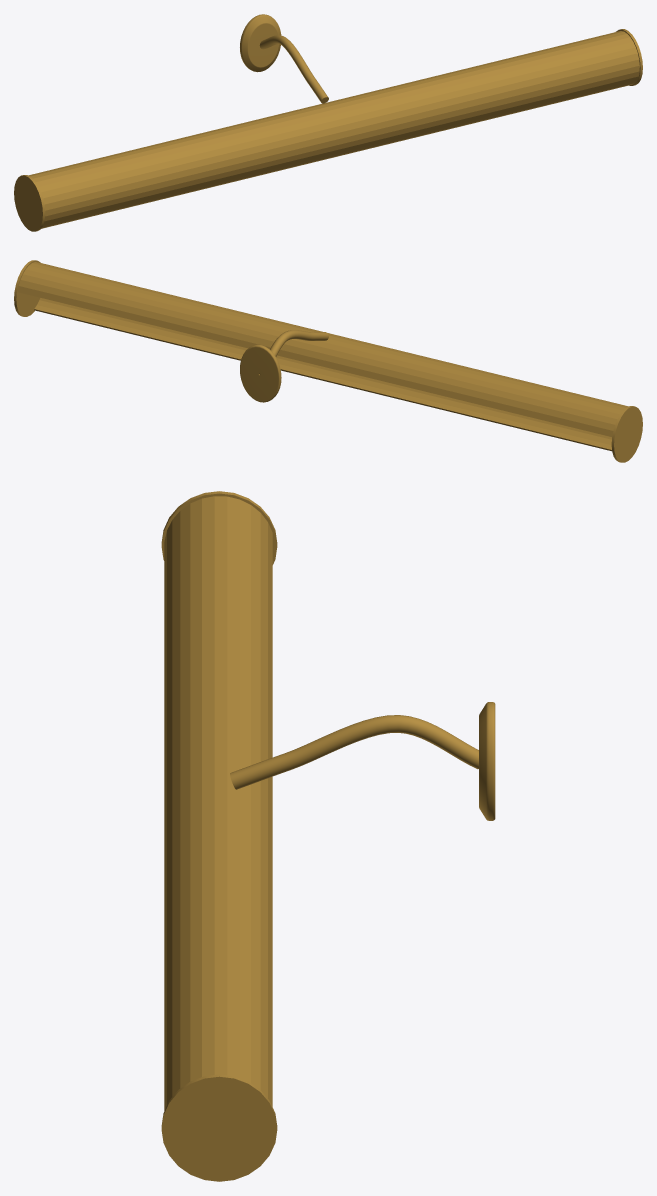
Rendered from picture_light.glb.
The picture shows the model from 3 angles, top to bottom: view 1: azimuth 30°, elevation 25°; view 2: azimuth 150°, elevation 25°; view 3: azimuth 270°, elevation 25°; orthographic projection. The views are drawn at different scales.
Visible parts, largest first — view 1: Mesh_Hood, Mesh_Backplate, Mesh_CapL, Mesh_Arm; view 2: Mesh_Hood, Mesh_Backplate, Mesh_CapL, Mesh_CapR, Mesh_Arm; view 3: Mesh_Hood, Mesh_CapR, Mesh_Arm, Mesh_Backplate, Mesh_CapL.
Part boxes in pixels (<box>): Mesh_Hood: <box>28,31,639,228</box>; Mesh_Backplate: <box>240,14,281,72</box>; Mesh_CapL: <box>14,175,45,231</box>; Mesh_Arm: <box>259,35,328,103</box>; Mesh_Hood: <box>17,262,628,451</box>; Mesh_Backplate: <box>240,344,281,402</box>; Mesh_CapL: <box>611,406,642,462</box>; Mesh_CapR: <box>14,260,40,316</box>; Mesh_Arm: <box>270,330,328,356</box>; Mesh_Hood: <box>164,496,272,1110</box>; Mesh_CapR: <box>161,1074,277,1181</box>; Mesh_Arm: <box>230,715,478,789</box>; Mesh_Backplate: <box>479,702,495,820</box>; Mesh_CapL: <box>161,491,277,564</box>.
Bounding box in the file's own units: 1 × 0.147 × 0.242.
